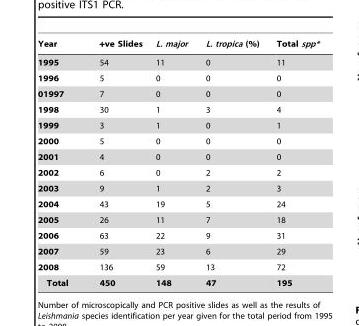table: (37, 36, 320, 287)
table column: (196, 36, 267, 287), (83, 36, 148, 287), (267, 36, 320, 287), (148, 36, 196, 287), (37, 36, 83, 287)
table column header: (37, 36, 320, 53)
table row: (37, 36, 320, 53), (37, 53, 320, 70), (37, 85, 320, 101), (37, 101, 320, 117), (37, 117, 320, 133), (37, 148, 320, 164), (37, 164, 320, 180), (37, 180, 320, 196), (37, 211, 320, 227), (37, 227, 320, 243), (37, 243, 320, 259), (37, 70, 320, 85), (37, 133, 320, 148), (37, 196, 320, 211), (37, 259, 320, 274), (37, 274, 320, 287)
